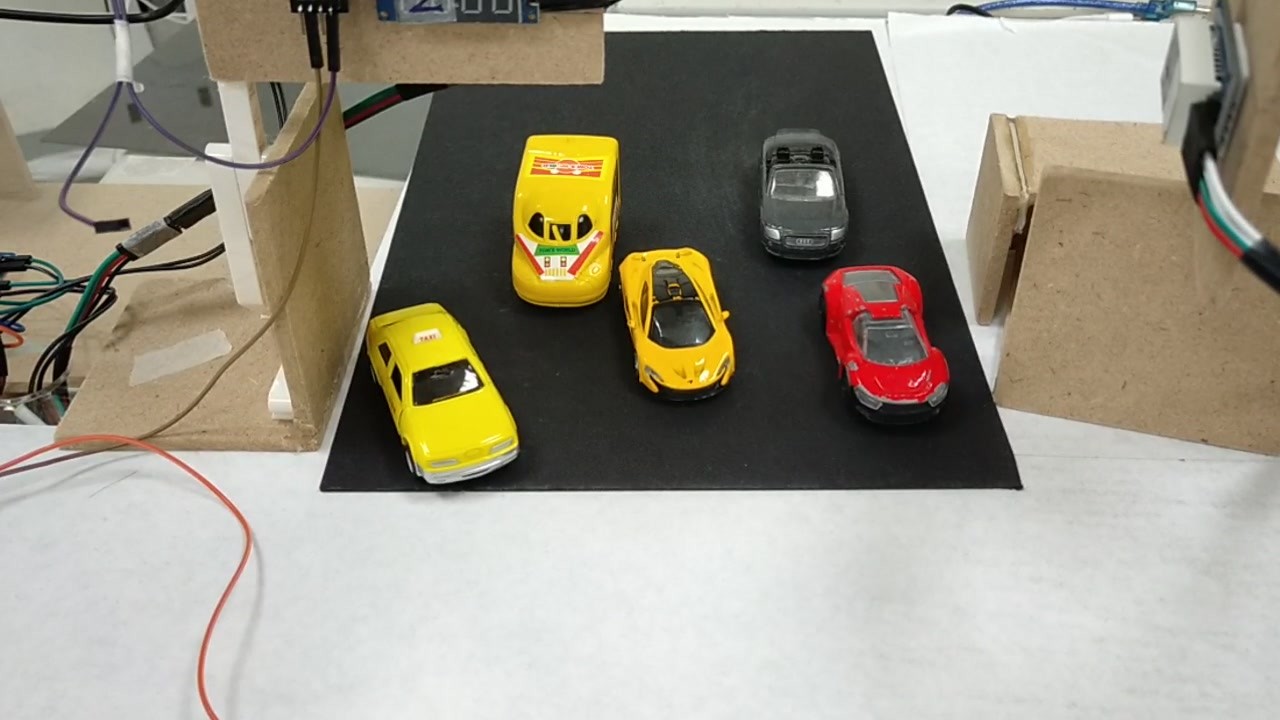car: (359, 309, 517, 482), (815, 268, 947, 419), (614, 246, 733, 397), (757, 129, 851, 258)
